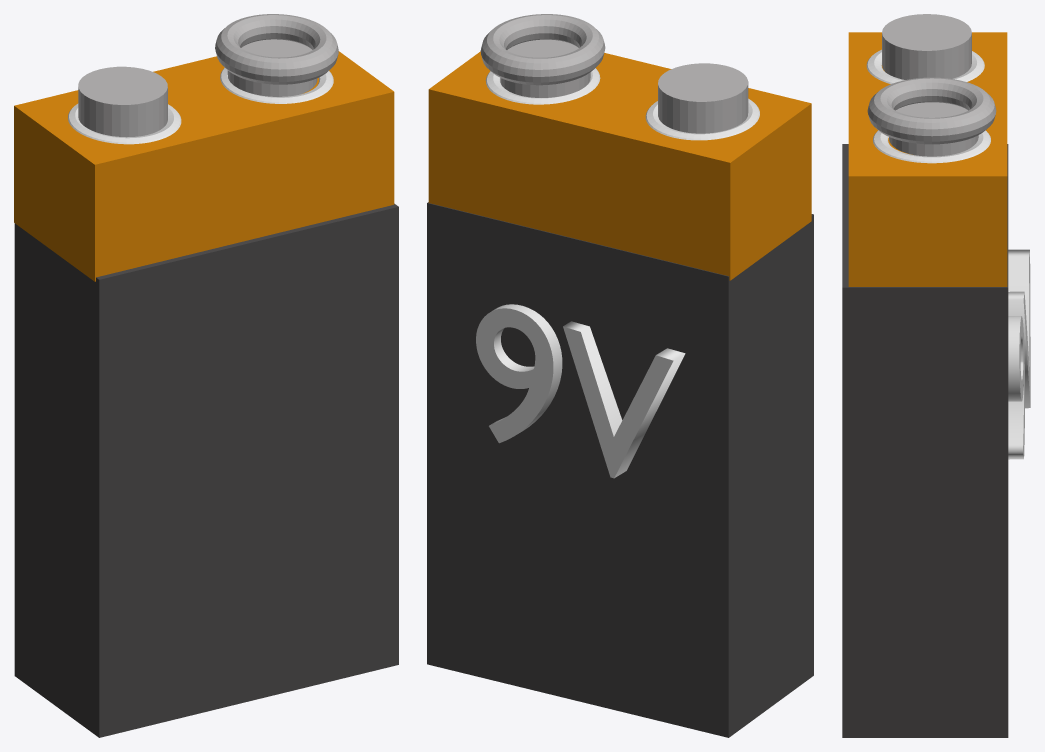
Rendered from battery 9v.fbx.
The picture shows the model from 3 angles, left to right: view 1: azimuth 30°, elevation 25°; view 2: azimuth 150°, elevation 25°; view 3: azimuth 270°, elevation 25°; orthographic projection. The views are drawn at different scales.
Parts seen in each view (by area): view 1: Cube.001; view 2: Cube.001, Text; view 3: Cube.001, Text.
Part boxes in pixels (x1=…): Cube.001: x1=14, y1=14, x2=398, y2=737; Cube.001: x1=427, y1=14, x2=813, y2=737; Text: x1=476, y1=304, x2=685, y2=478; Cube.001: x1=842, y1=14, x2=1008, y2=737; Text: x1=1008, y1=249, x2=1030, y2=459.
Bounding box in the file's own units: 201 × 391 × 111.
